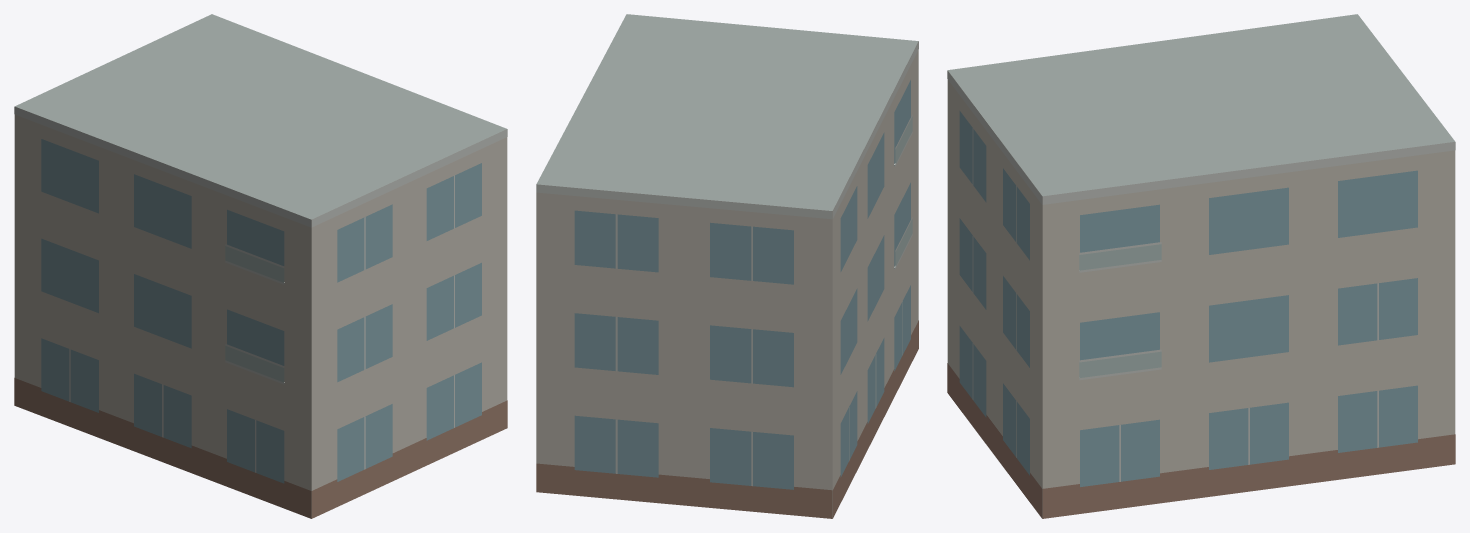
File: survey-upis-32993169.glb
The picture shows the model from 3 angles, left to right: view 1: azimuth 30°, elevation 25°; view 2: azimuth 150°, elevation 25°; view 3: azimuth 270°, elevation 25°; orthographic projection. The views are drawn at different scales.
Visible parts, largest first — view 1: survey-upis-32993169.tmp; view 2: survey-upis-32993169.tmp; view 3: survey-upis-32993169.tmp.
Part boxes in pixels (box(x1,y1,x2,y2)): survey-upis-32993169.tmp: box(14, 14, 507, 518); survey-upis-32993169.tmp: box(536, 14, 918, 518); survey-upis-32993169.tmp: box(947, 14, 1455, 518).
Bounding box in the file's own units: 11.1 × 9.15 × 13.07.
